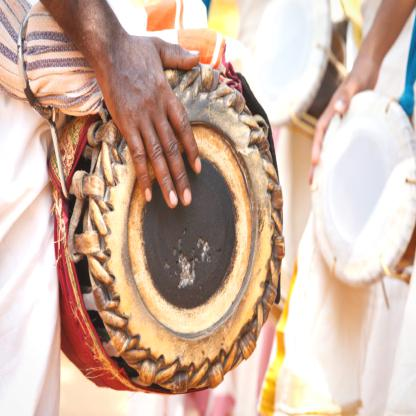Mridangam: (60, 45, 287, 407)
